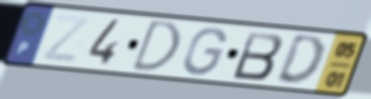4: (85, 18, 123, 68)
B: (230, 29, 287, 82)
D: (127, 18, 182, 73), (273, 34, 327, 89)
G: (181, 26, 229, 78)
Z: (37, 12, 94, 66)
